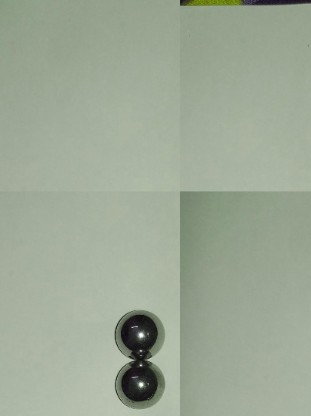ironball: (113, 358, 169, 412), (110, 308, 166, 361)
